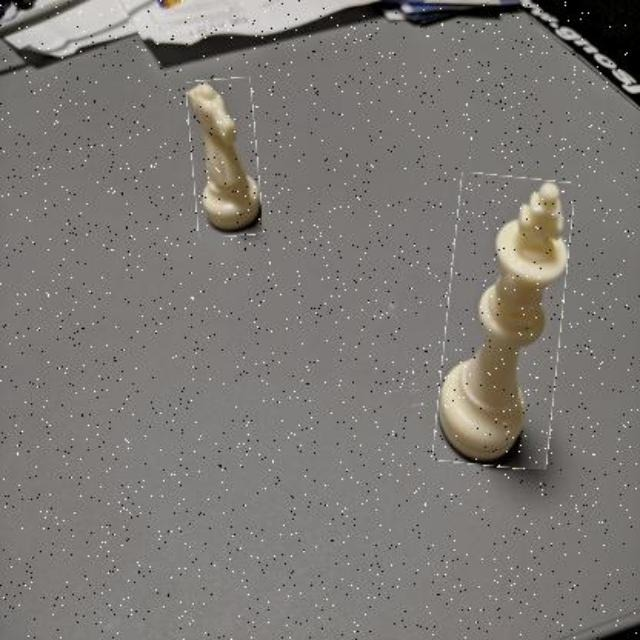white-king: (440, 175, 567, 468)
white-knight: (190, 79, 260, 237)
